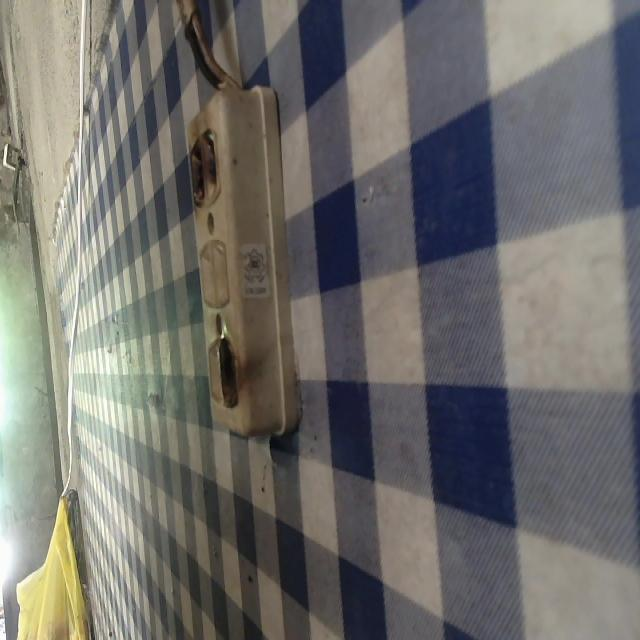-: (180, 123, 228, 205), (212, 330, 247, 418)
